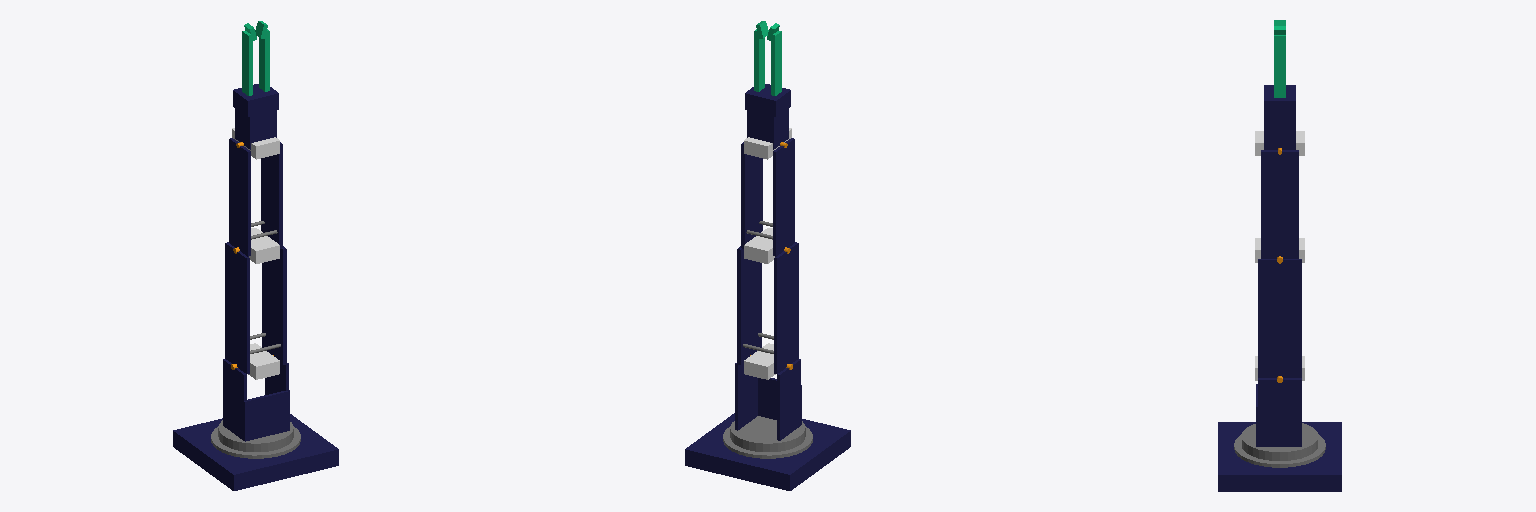
URDF robot description (adeept_5dof):
<?xml version="1.0" ?>
<robot name="adeept_5dof">

  <material name="darkblue"><color rgba="0.15 0.15 0.35 1.0"/></material>
  <material name="grey"><color rgba="0.5 0.5 0.5 1.0"/></material>
  <material name="orange"><color rgba="0.95 0.6 0.1 1.0"/></material>
  <material name="green"><color rgba="0.1 0.75 0.5 1.0"/></material>
  <material name="white"><color rgba="0.9 0.9 0.9 1.0"/></material>

  <!-- BASE -->
  <link name="base_link">
    <visual><geometry><box size="0.100 0.100 0.015"/></geometry>
      <origin xyz="0 0 0.0075"/><material name="darkblue"/></visual>
    <visual><geometry><cylinder radius="0.037" length="0.003"/></geometry>
      <origin xyz="0 0 0.0165"/><material name="grey"/></visual>
    <collision><geometry><box size="0.100 0.100 0.018"/></geometry><origin xyz="0 0 0.009"/></collision>
    <inertial><mass value="0.3"/><origin xyz="0 0 0.009"/>
      <inertia ixx="0.001" ixy="0" ixz="0" iyy="0.001" iyz="0" izz="0.001"/></inertial>
  </link>

  <!-- TURNTABLE -->
  <link name="turntable">
    <visual><geometry><cylinder radius="0.031" length="0.008"/></geometry>
      <origin xyz="0 0 0.004"/><material name="grey"/></visual>
    <collision><geometry><cylinder radius="0.032" length="0.008"/></geometry><origin xyz="0 0 0.004"/></collision>
    <inertial><mass value="0.05"/><origin xyz="0 0 0.004"/>
      <inertia ixx="0.0001" ixy="0" ixz="0" iyy="0.0001" iyz="0" izz="0.0001"/></inertial>
  </link>

  <joint name="base_joint" type="revolute">
    <parent link="base_link"/><child link="turntable"/>
    <origin xyz="0 0 0.018"/><axis xyz="0 0 1"/>
    <limit lower="-1.5708" upper="1.5708" effort="10" velocity="1.0"/>
  </joint>

  <!-- SHOULDER BRACKET -->
  <link name="shoulder_bracket">
    <visual><geometry><box size="0.003 0.035 0.060"/></geometry>
      <origin xyz="-0.020 0 0.030"/><material name="darkblue"/></visual>
    <visual><geometry><box size="0.003 0.035 0.060"/></geometry>
      <origin xyz="0.020 0 0.030"/><material name="darkblue"/></visual>
    <visual><geometry><box size="0.043 0.003 0.036"/></geometry>
      <origin xyz="0 -0.0175 0.018"/><material name="darkblue"/></visual>
    <visual><geometry><box size="0.023 0.040 0.012"/></geometry>
      <origin xyz="0 0 0.060"/><material name="white"/></visual>
    <visual><geometry><cylinder radius="0.0025" length="0.045"/></geometry>
      <origin xyz="0 0 0.060" rpy="0 1.5708 0"/><material name="orange"/></visual>
    <collision><geometry><box size="0.045 0.040 0.072"/></geometry><origin xyz="0 0 0.036"/></collision>
    <inertial><mass value="0.12"/><origin xyz="0 0 0.036"/>
      <inertia ixx="0.0002" ixy="0" ixz="0" iyy="0.0002" iyz="0" izz="0.0002"/></inertial>
  </link>

  <joint name="shoulder_bracket_joint" type="fixed">
    <parent link="turntable"/><child link="shoulder_bracket"/>
    <origin xyz="0 0 0.008"/>
  </joint>

  <!-- UPPER ARM -->
  <link name="upper_arm">
    <visual><geometry><box size="0.003 0.035 0.105"/></geometry>
      <origin xyz="-0.0175 0 0.0525"/><material name="darkblue"/></visual>
    <visual><geometry><box size="0.003 0.035 0.105"/></geometry>
      <origin xyz="0.0175 0 0.0525"/><material name="darkblue"/></visual>
    <visual><geometry><cylinder radius="0.0015" length="0.032"/></geometry>
      <origin xyz="0 0.01225 0.016" rpy="0 1.5708 0"/><material name="grey"/></visual>
    <visual><geometry><cylinder radius="0.0015" length="0.032"/></geometry>
      <origin xyz="0 -0.01225 0.016" rpy="0 1.5708 0"/><material name="grey"/></visual>
    <visual><geometry><box size="0.023 0.040 0.012"/></geometry>
      <origin xyz="0 0 0.105"/><material name="white"/></visual>
    <visual><geometry><cylinder radius="0.0025" length="0.040"/></geometry>
      <origin xyz="0 0 0.105" rpy="0 1.5708 0"/><material name="orange"/></visual>
    <collision><geometry><box size="0.038 0.040 0.118"/></geometry><origin xyz="0 0 0.059"/></collision>
    <inertial><mass value="0.12"/><origin xyz="0 0 0.059"/>
      <inertia ixx="0.0003" ixy="0" ixz="0" iyy="0.0003" iyz="0" izz="0.0001"/></inertial>
  </link>

  <joint name="shoulder_joint" type="revolute">
    <parent link="shoulder_bracket"/><child link="upper_arm"/>
    <origin xyz="0 0 0.060"/><axis xyz="1 0 0"/>
    <limit lower="-0.0873" upper="1.3963" effort="10" velocity="1.0"/>
  </joint>

  <!-- FOREARM -->
  <link name="forearm">
    <visual><geometry><box size="0.003 0.030 0.095"/></geometry>
      <origin xyz="-0.015 0 0.0475"/><material name="darkblue"/></visual>
    <visual><geometry><box size="0.003 0.030 0.095"/></geometry>
      <origin xyz="0.015 0 0.0475"/><material name="darkblue"/></visual>
    <visual><geometry><cylinder radius="0.0015" length="0.027"/></geometry>
      <origin xyz="0 0.0105 0.014" rpy="0 1.5708 0"/><material name="grey"/></visual>
    <visual><geometry><cylinder radius="0.0015" length="0.027"/></geometry>
      <origin xyz="0 -0.0105 0.014" rpy="0 1.5708 0"/><material name="grey"/></visual>
    <visual><geometry><box size="0.023 0.040 0.012"/></geometry>
      <origin xyz="0 0 0.095"/><material name="white"/></visual>
    <visual><geometry><cylinder radius="0.002" length="0.035"/></geometry>
      <origin xyz="0 0 0.095" rpy="0 1.5708 0"/><material name="orange"/></visual>
    <collision><geometry><box size="0.033 0.035 0.108"/></geometry><origin xyz="0 0 0.054"/></collision>
    <inertial><mass value="0.10"/><origin xyz="0 0 0.054"/>
      <inertia ixx="0.0002" ixy="0" ixz="0" iyy="0.0002" iyz="0" izz="0.00008"/></inertial>
  </link>

  <joint name="elbow_joint" type="revolute">
    <parent link="upper_arm"/><child link="forearm"/>
    <origin xyz="0 0 0.105"/><axis xyz="1 0 0"/>
    <limit lower="-0.0873" upper="1.4835" effort="10" velocity="1.0"/>
  </joint>

  <!-- WRIST -->
  <link name="wrist">
    <visual><geometry><box size="0.025 0.025 0.030"/></geometry>
      <origin xyz="0 0 0.015"/><material name="darkblue"/></visual>
    <visual><geometry><box size="0.030 0.025 0.015"/></geometry>
      <origin xyz="0 0 0.0375"/><material name="darkblue"/></visual>
    <collision><geometry><box size="0.030 0.025 0.045"/></geometry><origin xyz="0 0 0.0225"/></collision>
    <inertial><mass value="0.05"/><origin xyz="0 0 0.0225"/>
      <inertia ixx="0.00005" ixy="0" ixz="0" iyy="0.00005" iyz="0" izz="0.00005"/></inertial>
  </link>

  <joint name="wrist_joint" type="revolute">
    <parent link="forearm"/><child link="wrist"/>
    <origin xyz="0 0 0.095"/><axis xyz="0 0 1"/>
    <limit lower="-1.5708" upper="1.5708" effort="5" velocity="1.0"/>
  </joint>

  <!-- GRIPPER BASE -->
  <link name="gripper_base">
    <inertial><mass value="0.005"/>
      <inertia ixx="0.000001" ixy="0" ixz="0" iyy="0.000001" iyz="0" izz="0.000001"/></inertial>
  </link>

  <joint name="gripper_base_joint" type="fixed">
    <parent link="wrist"/><child link="gripper_base"/>
    <origin xyz="0 0 0.045"/>
  </joint>

  <!-- GRIPPER LEFT -->
  <link name="gripper_left">
    <visual><geometry><box size="0.004 0.010 0.055"/></geometry>
      <origin xyz="0 0 0.0275"/><material name="green"/></visual>
    <visual><geometry><box size="0.004 0.010 0.012"/></geometry>
      <origin xyz="0.003 0 0.055" rpy="0 -0.3 0"/><material name="green"/></visual>
    <collision><geometry><box size="0.010 0.012 0.062"/></geometry><origin xyz="0.002 0 0.031"/></collision>
    <inertial><mass value="0.01"/><origin xyz="0 0 0.030"/>
      <inertia ixx="0.000005" ixy="0" ixz="0" iyy="0.000005" iyz="0" izz="0.000002"/></inertial>
  </link>

  <joint name="gripper_left_joint" type="revolute">
    <parent link="gripper_base"/><child link="gripper_left"/>
    <origin xyz="-0.008 0 0"/><axis xyz="0 -1 0"/>
    <limit lower="0" upper="0.5" effort="2" velocity="1.0"/>
  </joint>

  <!-- GRIPPER RIGHT -->
  <link name="gripper_right">
    <visual><geometry><box size="0.004 0.010 0.055"/></geometry>
      <origin xyz="0 0 0.0275"/><material name="green"/></visual>
    <visual><geometry><box size="0.004 0.010 0.012"/></geometry>
      <origin xyz="-0.003 0 0.055" rpy="0 0.3 0"/><material name="green"/></visual>
    <collision><geometry><box size="0.010 0.012 0.062"/></geometry><origin xyz="-0.002 0 0.031"/></collision>
    <inertial><mass value="0.01"/><origin xyz="0 0 0.030"/>
      <inertia ixx="0.000005" ixy="0" ixz="0" iyy="0.000005" iyz="0" izz="0.000002"/></inertial>
  </link>

  <joint name="gripper_right_joint" type="revolute">
    <parent link="gripper_base"/><child link="gripper_right"/>
    <origin xyz="0.008 0 0"/><axis xyz="0 1 0"/>
    <limit lower="0" upper="0.5" effort="2" velocity="1.0"/>
    <mimic joint="gripper_left_joint" multiplier="1.0" offset="0"/>
  </joint>

</robot>

--- Facts derived from the render (not from the file) ---
Views: 3 orthographic renders of the robot side by side, from view 1: azimuth 30°, elevation 25°; view 2: azimuth 150°, elevation 25°; view 3: azimuth 270°, elevation 25°.
Robot: adeept_5dof — 9 links, 8 joints (6 revolute, 2 fixed); root link base_link; default pose: every joint at zero.
Links seen in each view (by area): view 1: upper_arm, base_link, forearm, shoulder_bracket, wrist, turntable, gripper_left, gripper_right; view 2: upper_arm, base_link, forearm, shoulder_bracket, wrist, turntable, gripper_left, gripper_right; view 3: base_link, upper_arm, forearm, shoulder_bracket, wrist, turntable, gripper_right.
Link boxes in pixels (left/top/right/bottom): upper_arm: left=225, top=228, right=286, bottom=373; base_link: left=173, top=414, right=338, bottom=490; forearm: left=229, top=128, right=282, bottom=256; shoulder_bracket: left=223, top=343, right=289, bottom=441; wrist: left=233, top=84, right=278, bottom=149; turntable: left=218, top=420, right=293, bottom=451; gripper_left: left=242, top=23, right=256, bottom=95; gripper_right: left=255, top=21, right=269, bottom=91; upper_arm: left=737, top=228, right=798, bottom=373; base_link: left=685, top=413, right=850, bottom=490; forearm: left=741, top=128, right=794, bottom=256; shoulder_bracket: left=735, top=343, right=801, bottom=440; wrist: left=745, top=84, right=790, bottom=149; turntable: left=730, top=416, right=805, bottom=451; gripper_left: left=767, top=23, right=781, bottom=95; gripper_right: left=754, top=21, right=768, bottom=91; base_link: left=1218, top=422, right=1341, bottom=491; upper_arm: left=1255, top=238, right=1304, bottom=377; forearm: left=1255, top=131, right=1304, bottom=258; shoulder_bracket: left=1255, top=356, right=1304, bottom=446; wrist: left=1264, top=85, right=1295, bottom=149; turntable: left=1242, top=423, right=1317, bottom=460; gripper_right: left=1274, top=26, right=1285, bottom=97.
Bounding box of the posed robot: 0.1 × 0.1 × 0.3923 m (x, y, z).
Geometry: primitives only (box / cylinder / sphere), no mesh files.
